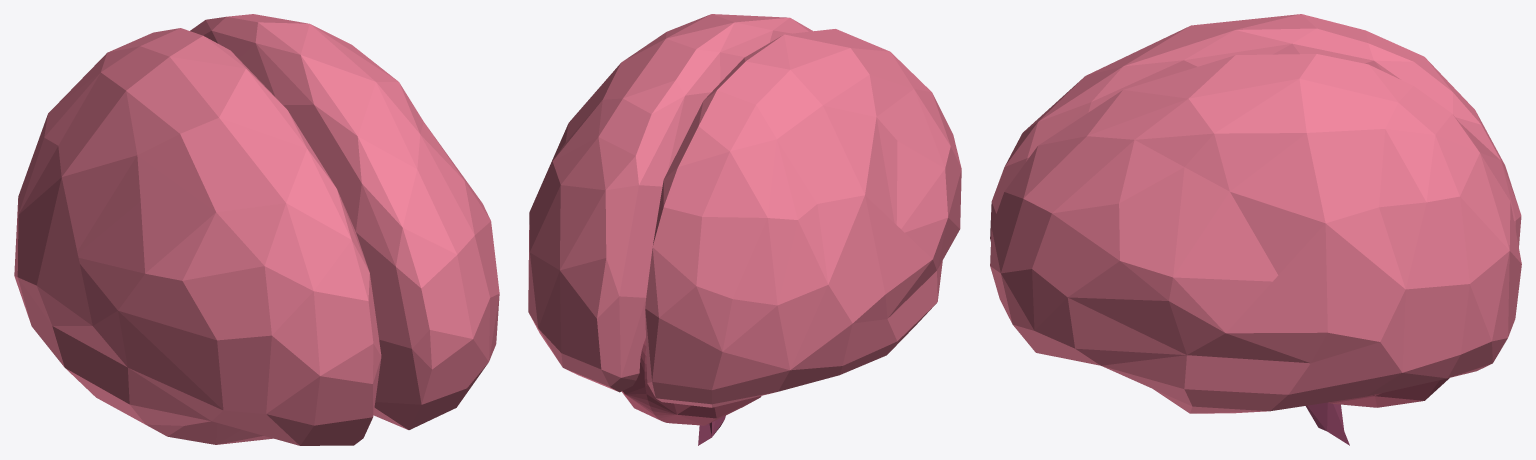
The model's file is brain.fbx.
3 views of the same model, side by side, from view 1: azimuth 30°, elevation 25°; view 2: azimuth 150°, elevation 25°; view 3: azimuth 270°, elevation 25° (orthographic). The views are drawn at different scales.
Visible parts, largest first — view 1: Cube; view 2: Cube, Cube.001; view 3: Cube, Cube.001, Cube.002.
Part boxes in pixels (x1=…): Cube: x1=14, y1=14, x2=499, y2=445; Cube: x1=528, y1=14, x2=961, y2=407; Cube.001: x1=621, y1=338, x2=761, y2=425; Cube: x1=990, y1=14, x2=1521, y2=413; Cube.001: x1=1329, y1=378, x2=1449, y2=407; Cube.002: x1=1306, y1=402, x2=1349, y2=445.
Bounding box in the file's own units: 162 × 173 × 208.
1 material, 1 textured.
